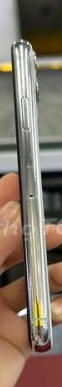scratch: (16, 235, 56, 345), (21, 130, 41, 193)
